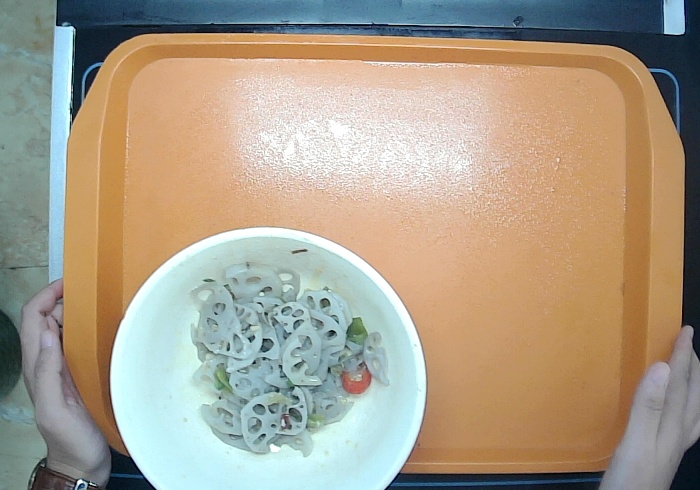ZNLD-Da_Tang_Wan: (106, 222, 428, 490)
